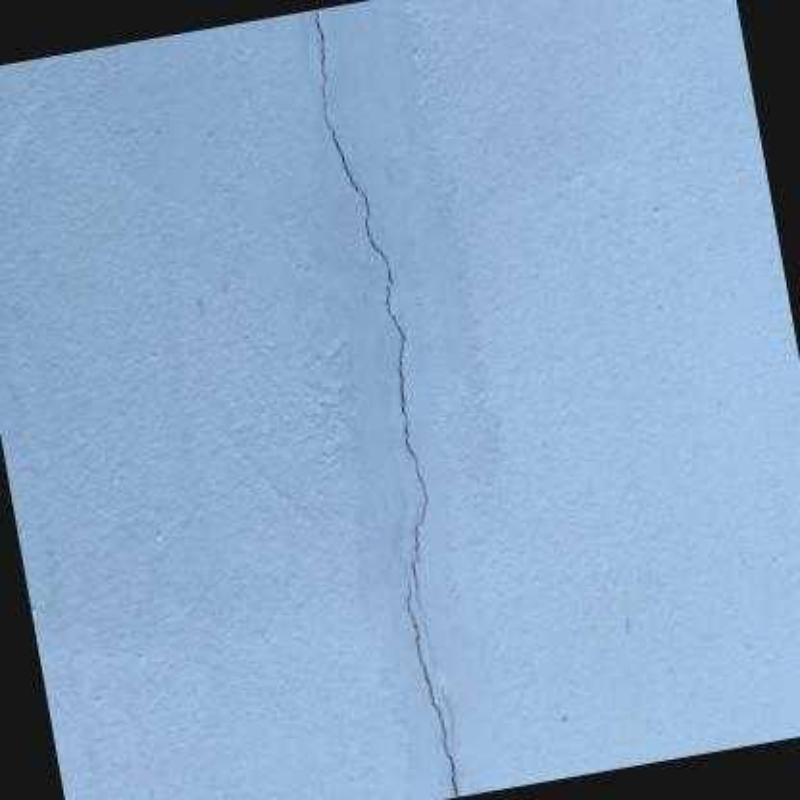crack: (311, 7, 435, 654), (406, 575, 460, 797)
